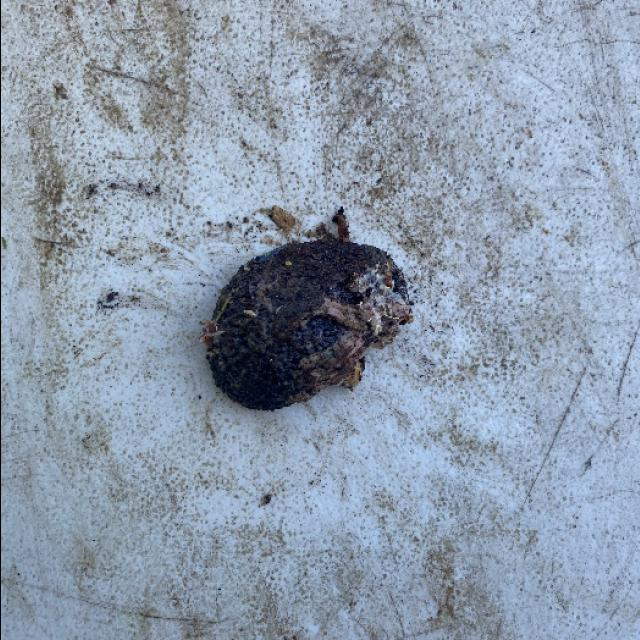organik: (198, 236, 416, 416)
